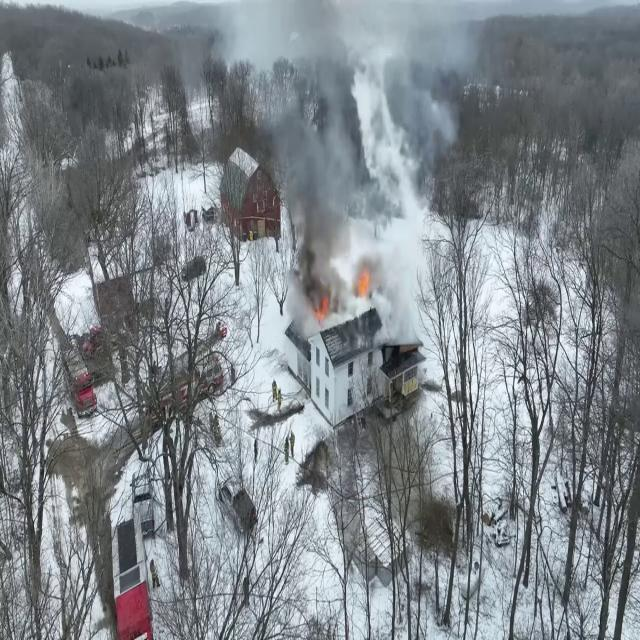Smoke: (266, 1, 482, 331)
